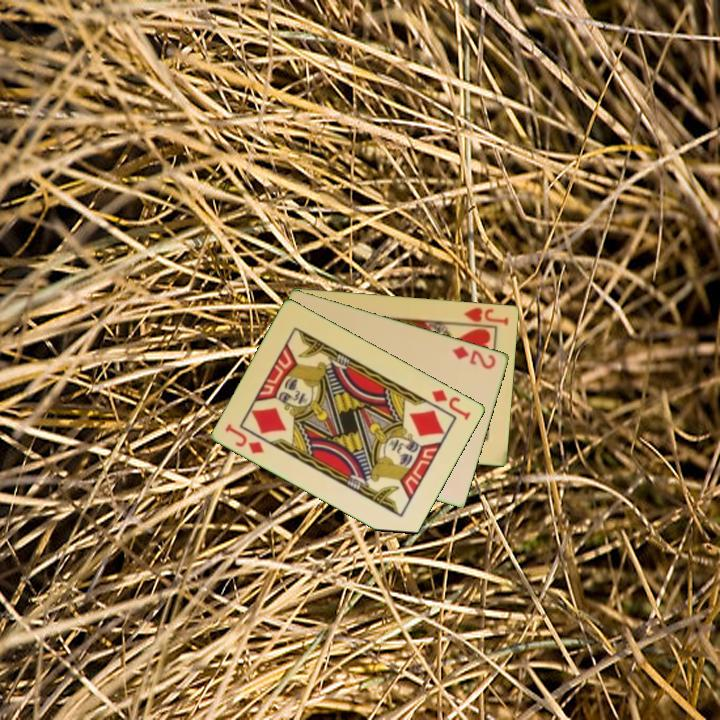2d: (449, 342, 499, 372)
Jd: (428, 386, 474, 423), (222, 420, 267, 456)
Jh: (461, 304, 512, 328)
